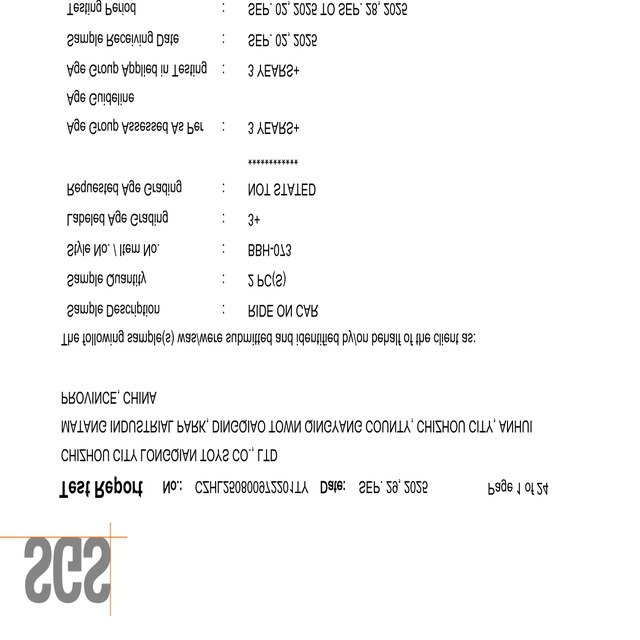sgs: (23, 536, 111, 603)
